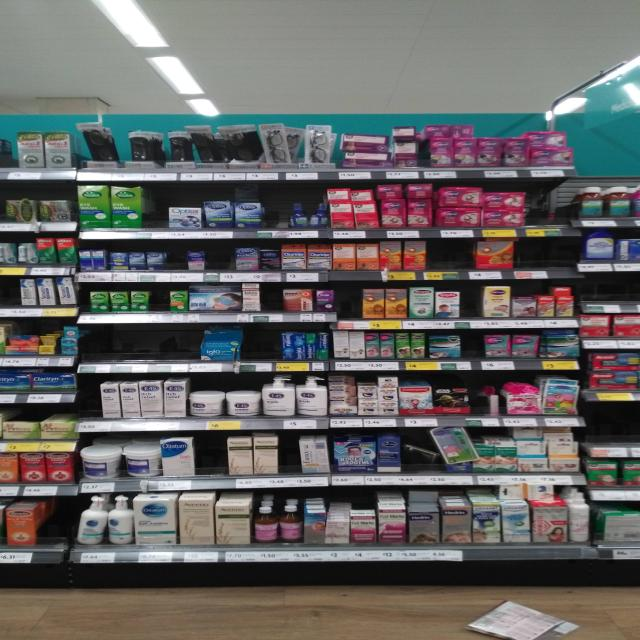void: (522, 239, 579, 283), (593, 408, 640, 461), (531, 184, 571, 242), (40, 499, 70, 563), (432, 240, 471, 282), (128, 328, 162, 375), (90, 330, 125, 374), (246, 326, 278, 372), (167, 325, 197, 373), (198, 435, 224, 490), (144, 185, 168, 238), (210, 242, 231, 282), (336, 288, 356, 328)
